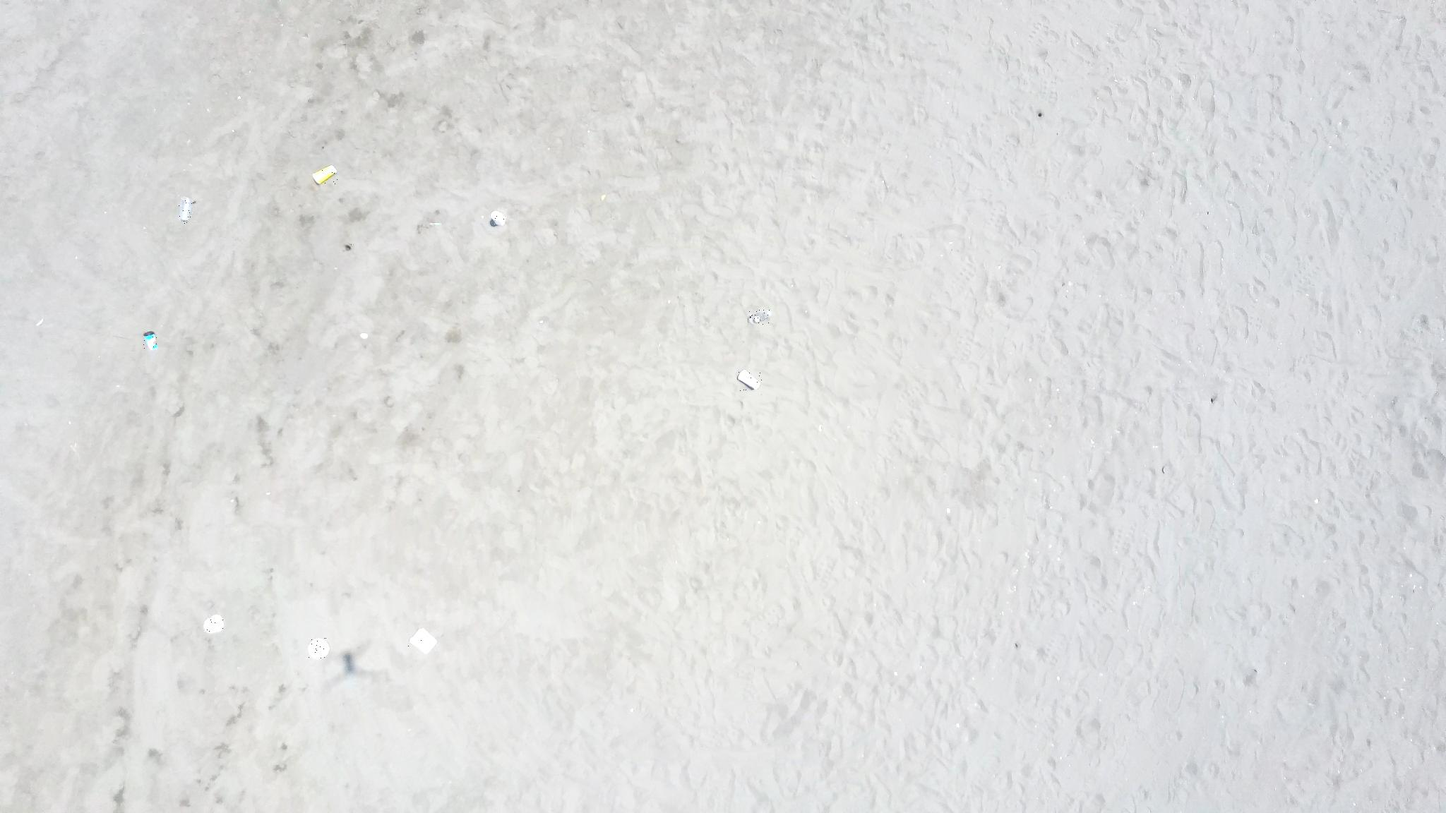Garbage: (408, 628, 436, 654), (311, 164, 335, 183), (737, 369, 758, 390), (307, 638, 328, 658), (203, 615, 223, 633), (179, 198, 193, 222), (748, 309, 770, 324), (488, 210, 506, 227), (142, 332, 157, 350), (35, 317, 43, 327), (429, 222, 441, 227), (359, 332, 367, 339)
